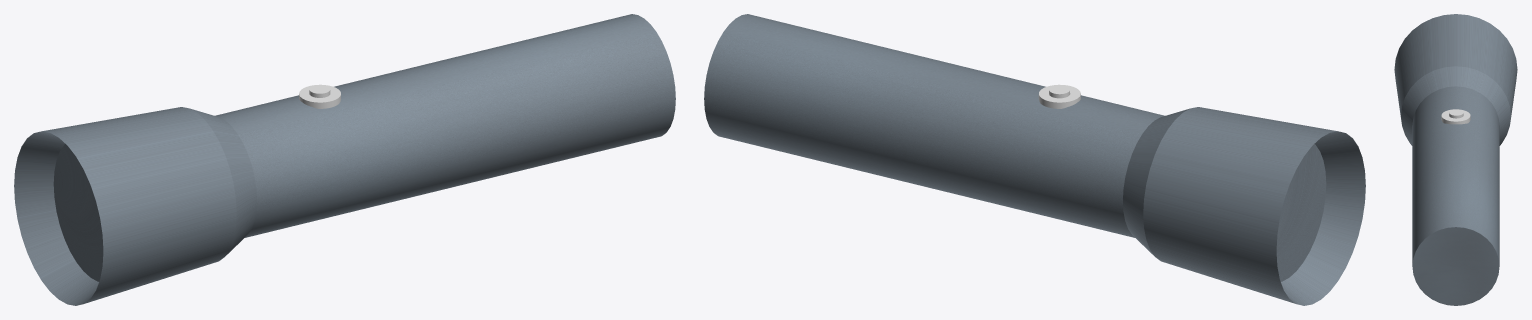
The model's file is senter.fbx.
3 renders of one model, left to right at view 1: azimuth 30°, elevation 25°; view 2: azimuth 150°, elevation 25°; view 3: azimuth 270°, elevation 25°, orthographic. The views are drawn at different scales.
Parts seen in each view (by area): view 1: Flashlight, Cylinder.001; view 2: Flashlight, Cylinder.001; view 3: Flashlight, Cylinder.001, Cylinder.002.
Part boxes in pixels (x1=…): Flashlight: x1=14, y1=14, x2=675, y2=305; Cylinder.001: x1=299, y1=84, x2=340, y2=108; Flashlight: x1=704, y1=14, x2=1365, y2=305; Cylinder.001: x1=1038, y1=84, x2=1080, y2=108; Flashlight: x1=1394, y1=14, x2=1517, y2=305; Cylinder.001: x1=1441, y1=109, x2=1470, y2=124; Cylinder.002: x1=1449, y1=109, x2=1463, y2=118.
Bounding box in the file's own units: 962 × 254 × 254.
